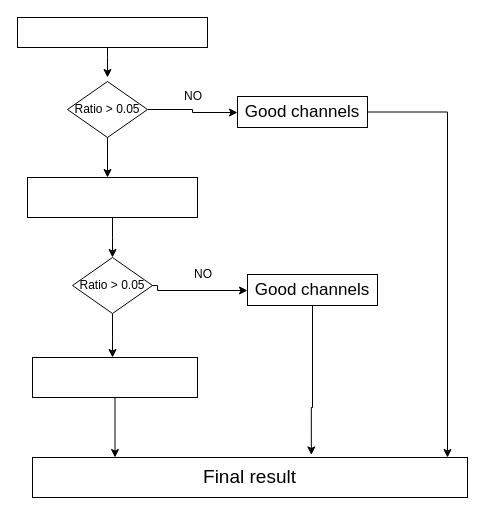
The diagram is 485 pixels wide and 515 high, and some of its shapes have lost their labels. Here are the shapes that lost their labels. From the top down, the box of each, then its label:
(16, 16, 208, 48): LED
(26, 176, 198, 218): First time check
(32, 356, 198, 398): Second time check
